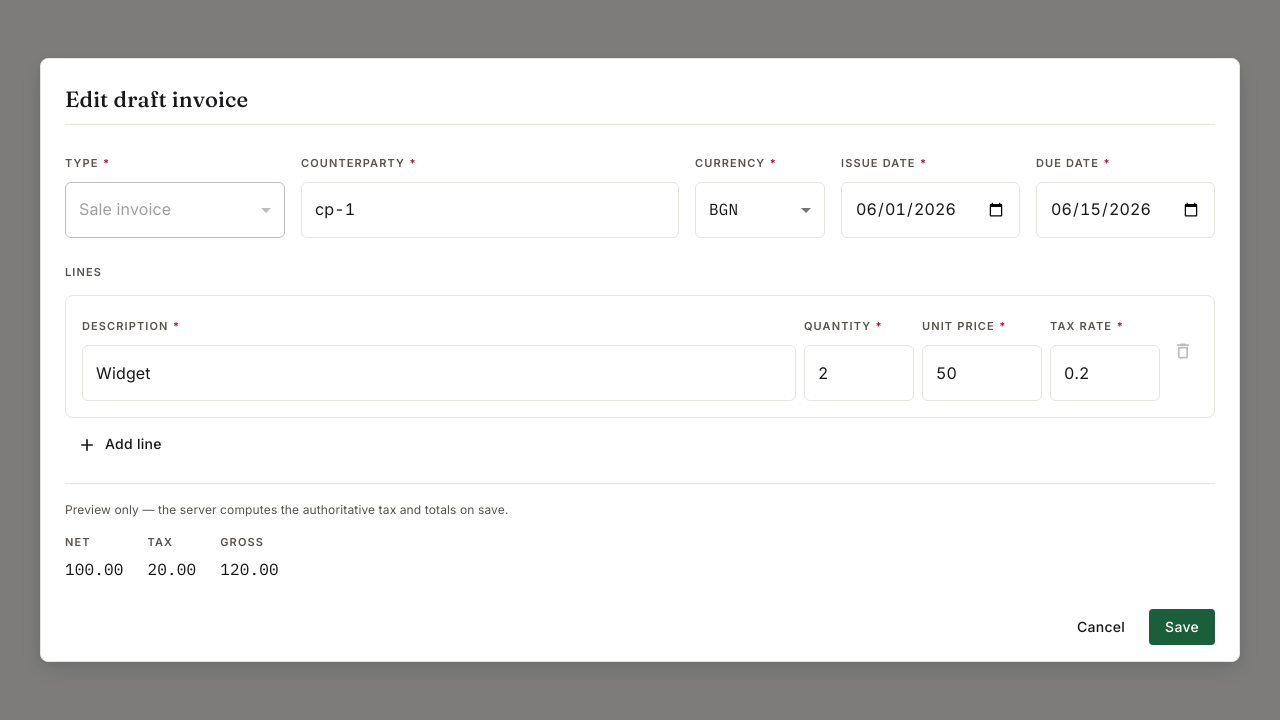
Test: InvoiceFormDialog (SDD-UI-FIN-001 §2.4, §2.5) › InvoiceEdit_StaleRowVersion_ShowsConcurrentModificationToast
Step 1. Click the button "Save" → (1182, 627), box [1149, 609, 1215, 646]
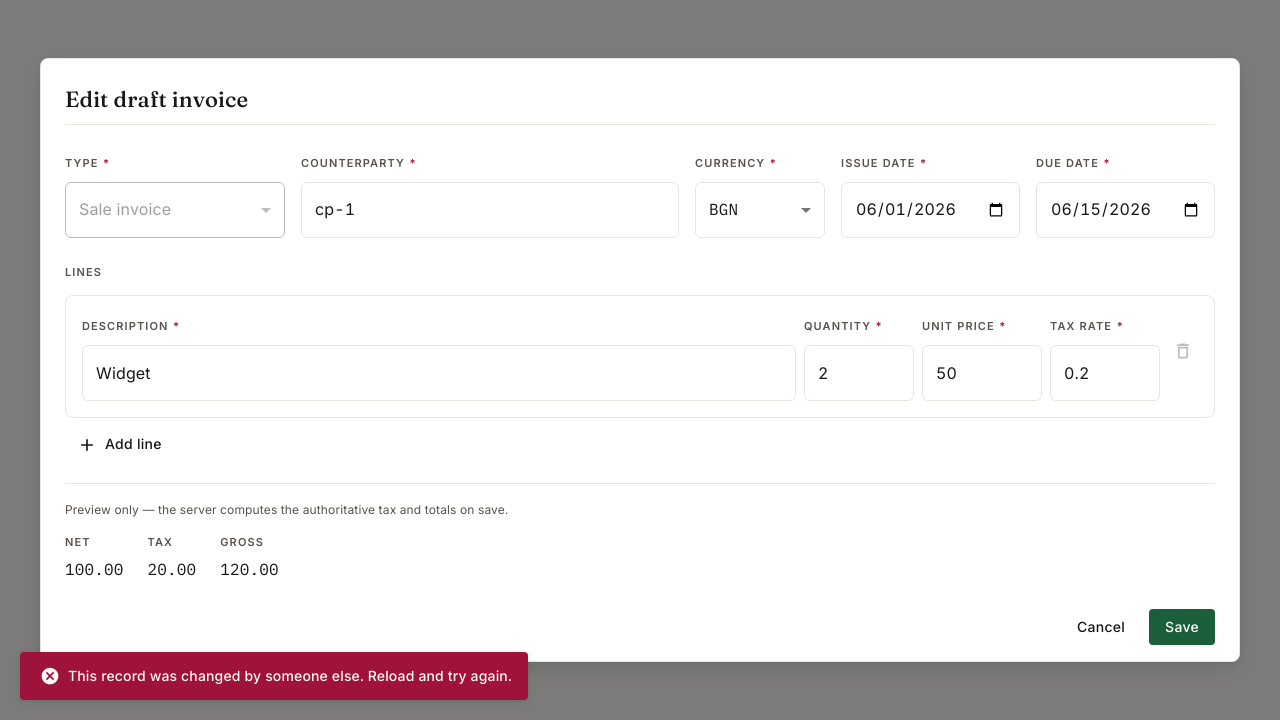
Check: the text "This record was changed by someone else" is shown, box [68, 667, 512, 684]
